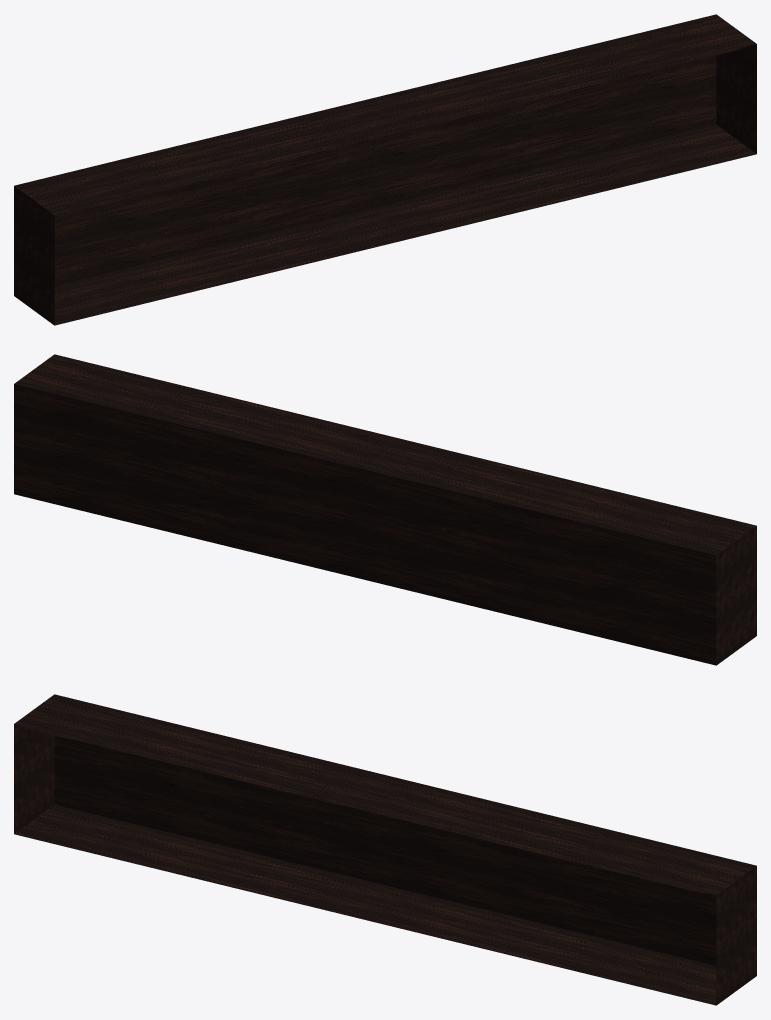
Rendered from shelfv2.glb.
3 renders of one model, top to bottom at view 1: azimuth 30°, elevation 25°; view 2: azimuth 150°, elevation 25°; view 3: azimuth 330°, elevation 25°, orthographic.
Visible parts, largest first — view 1: Cube; view 2: Cube; view 3: Cube.
Boxes of the visible parts, left/top/right/bottom form: Cube: left=14, top=14, right=756, bottom=325; Cube: left=14, top=354, right=756, bottom=665; Cube: left=14, top=694, right=756, bottom=1005.
Bounding box in the file's own units: 2 × 0.3001 × 0.2.
1 material, 1 textured.
